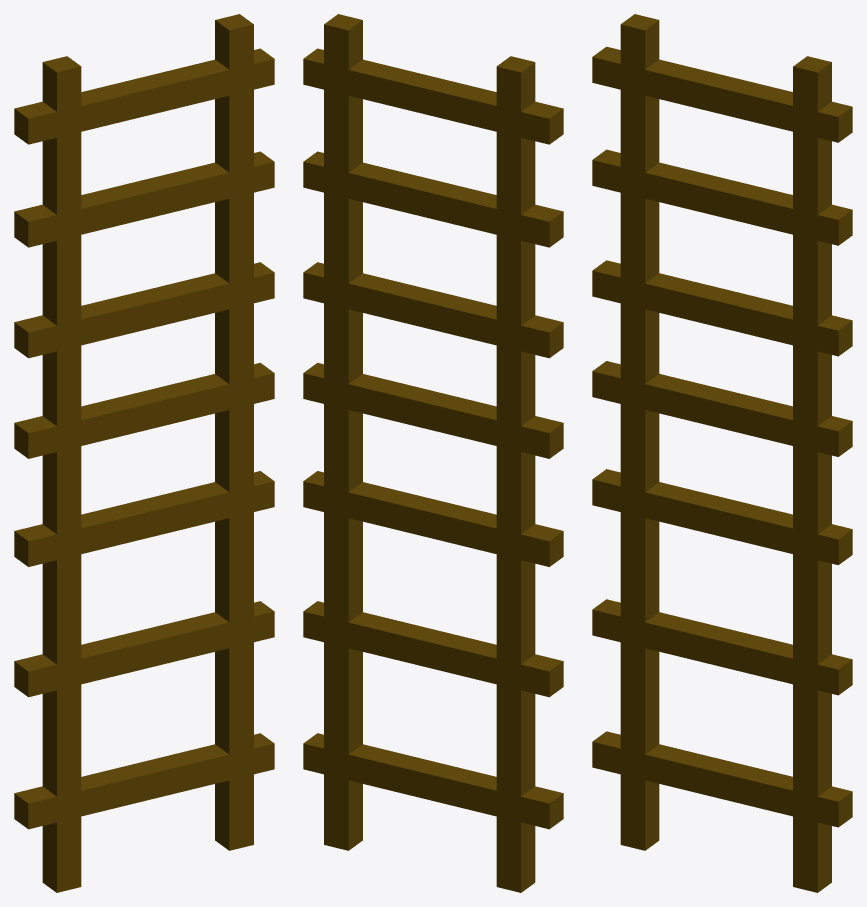
Rendered from ladder.fbx.
3 renders of one model, left to right at view 1: azimuth 30°, elevation 25°; view 2: azimuth 150°, elevation 25°; view 3: azimuth 330°, elevation 25°, orthographic.
Parts seen in each view (by area): view 1: ladder; view 2: ladder; view 3: ladder.
Boxes of the visible parts, <box> form: ladder: <box>14,14,274,892</box>; ladder: <box>303,14,563,892</box>; ladder: <box>592,14,852,892</box>.
Size of the model in its own units: 40 by 127 by 4.
